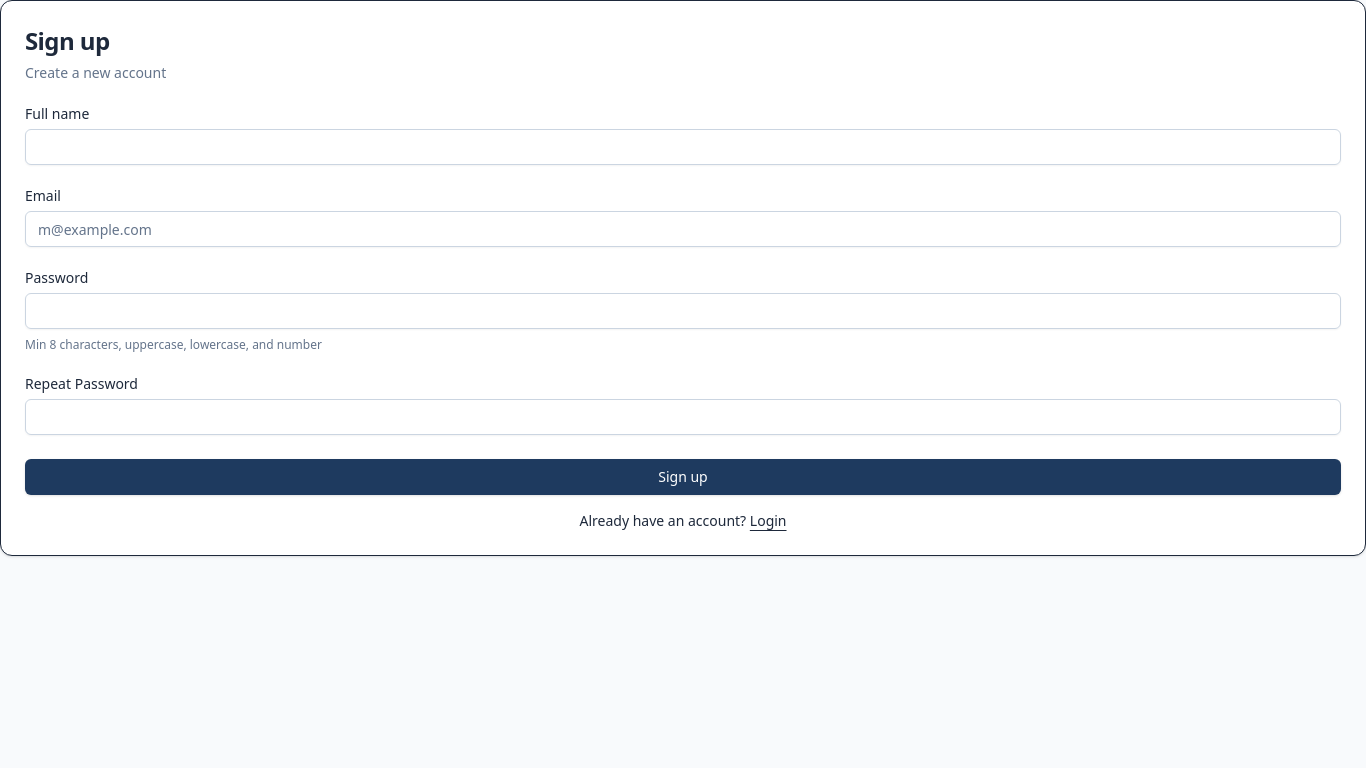
it: SignUpForm component › password validation › should show error when passwords do not match
Step 1. Type "John Doe" into the field labelled "Full name" → (683, 147), box left=25, top=129, right=1341, bottom=165
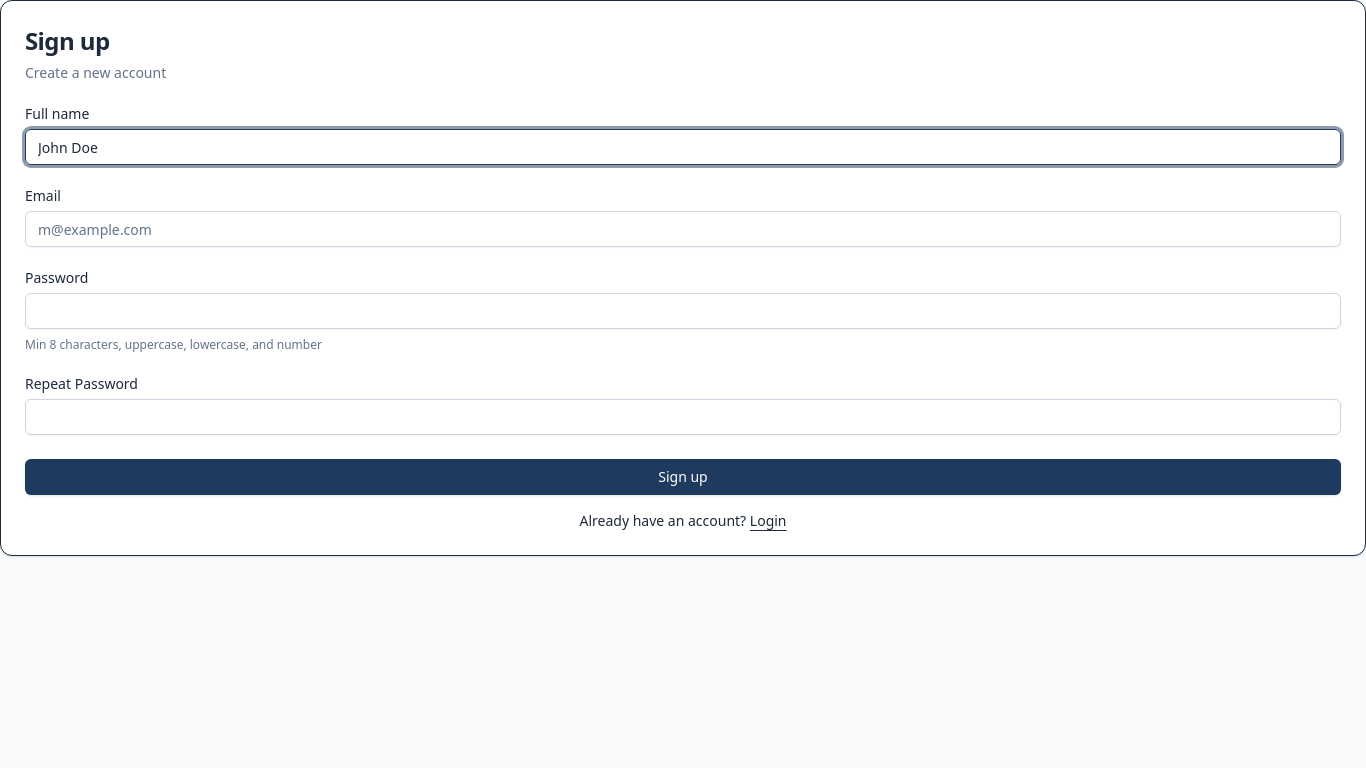
Step 2. Type "test@example.com" into the field labelled "Email" → (683, 229), box left=25, top=211, right=1341, bottom=247
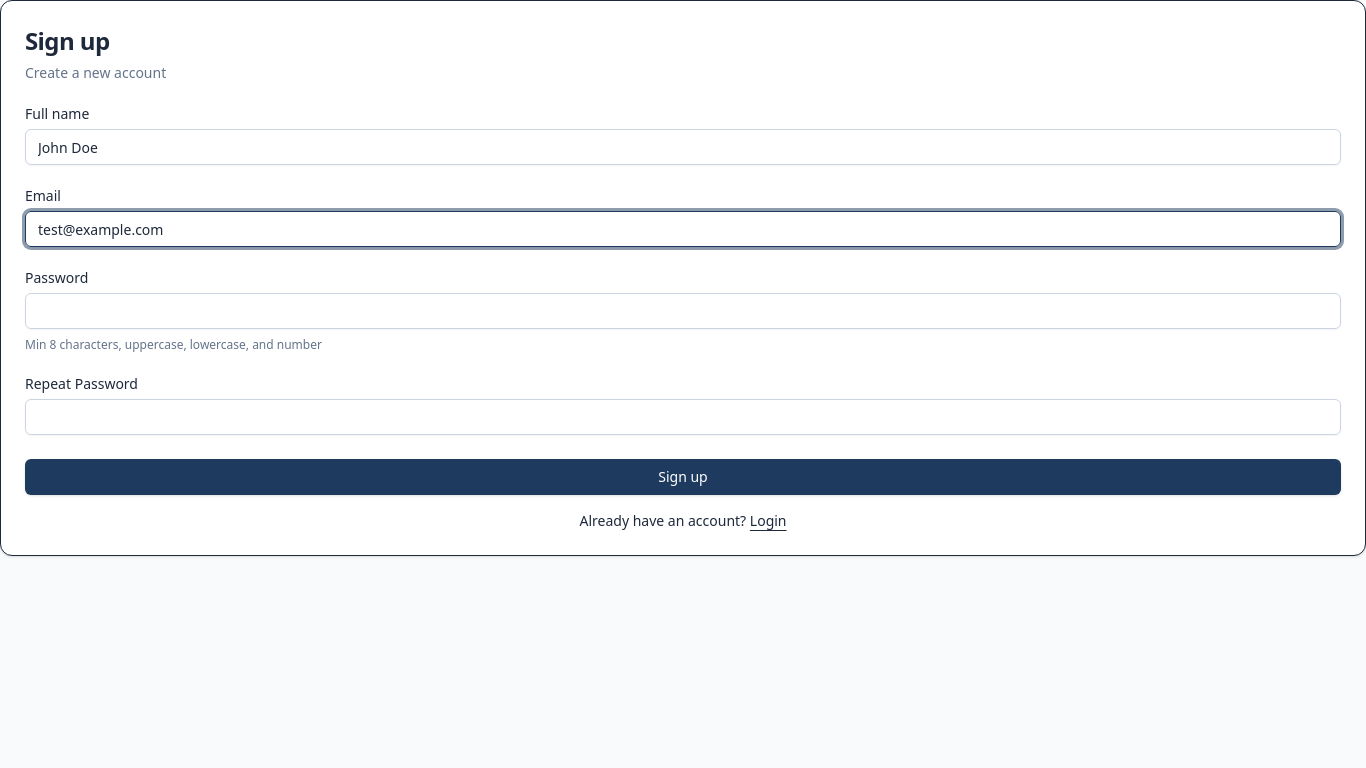
Step 3. Type "Password123" into the password field labelled "Password" → (683, 311), box left=25, top=293, right=1341, bottom=329
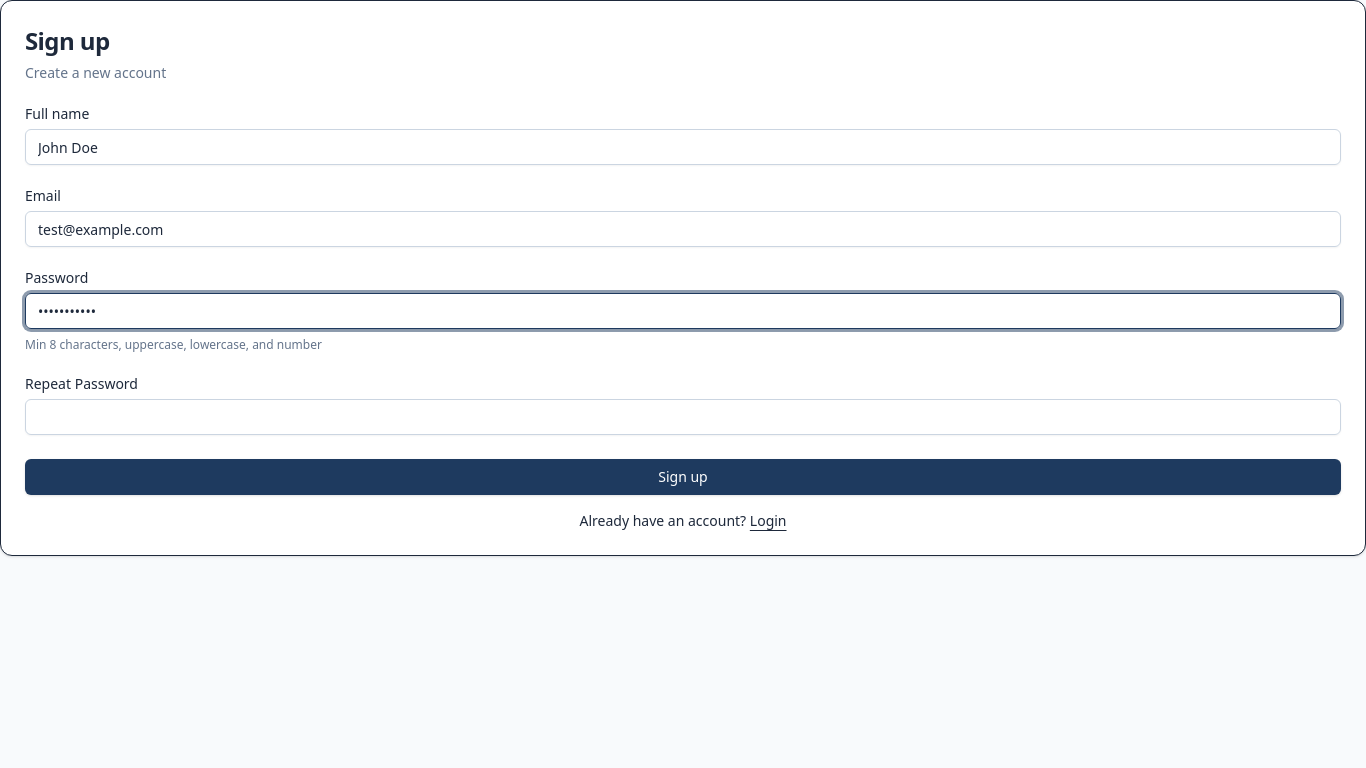
Step 4. Type "Password456" into the password field labelled "Repeat Password" → (683, 417), box left=25, top=399, right=1341, bottom=435
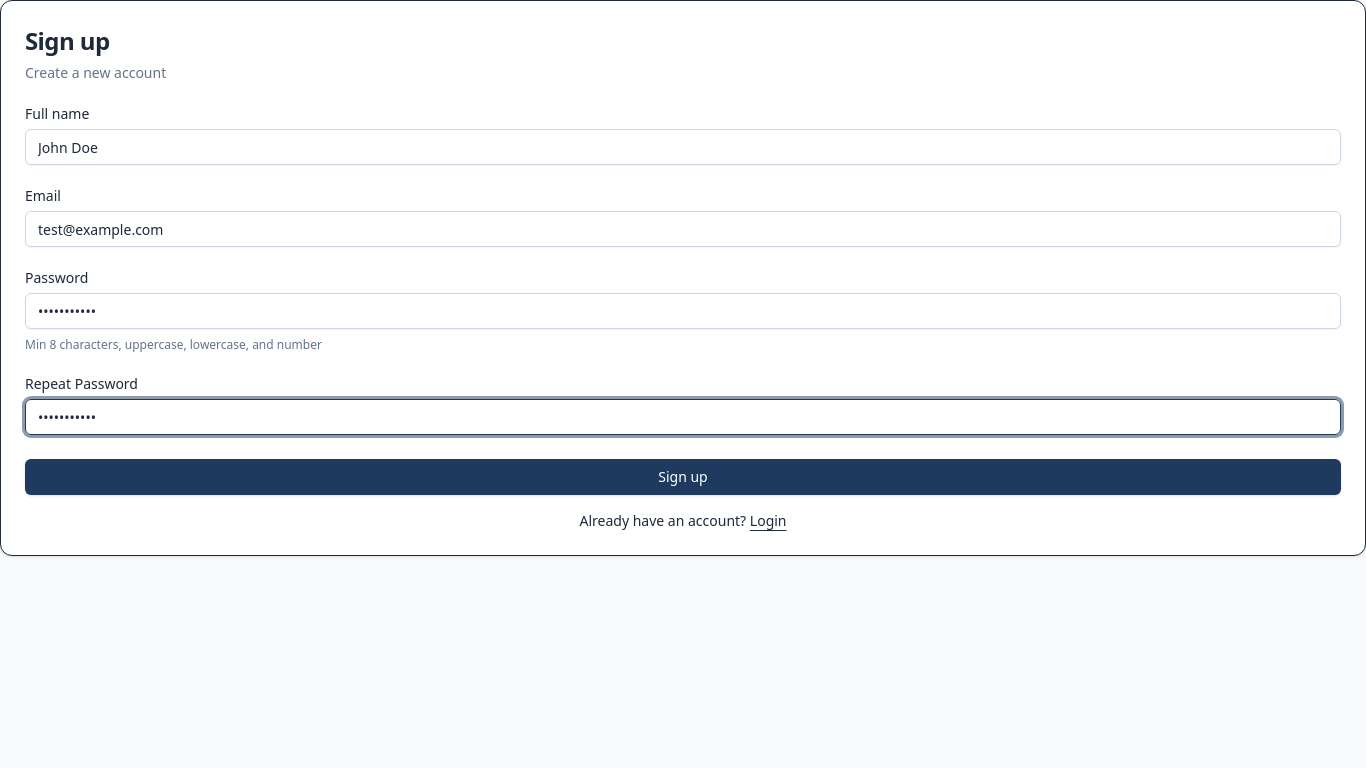
Step 5. Click the button "Sign up" → (683, 477), box left=25, top=459, right=1341, bottom=495
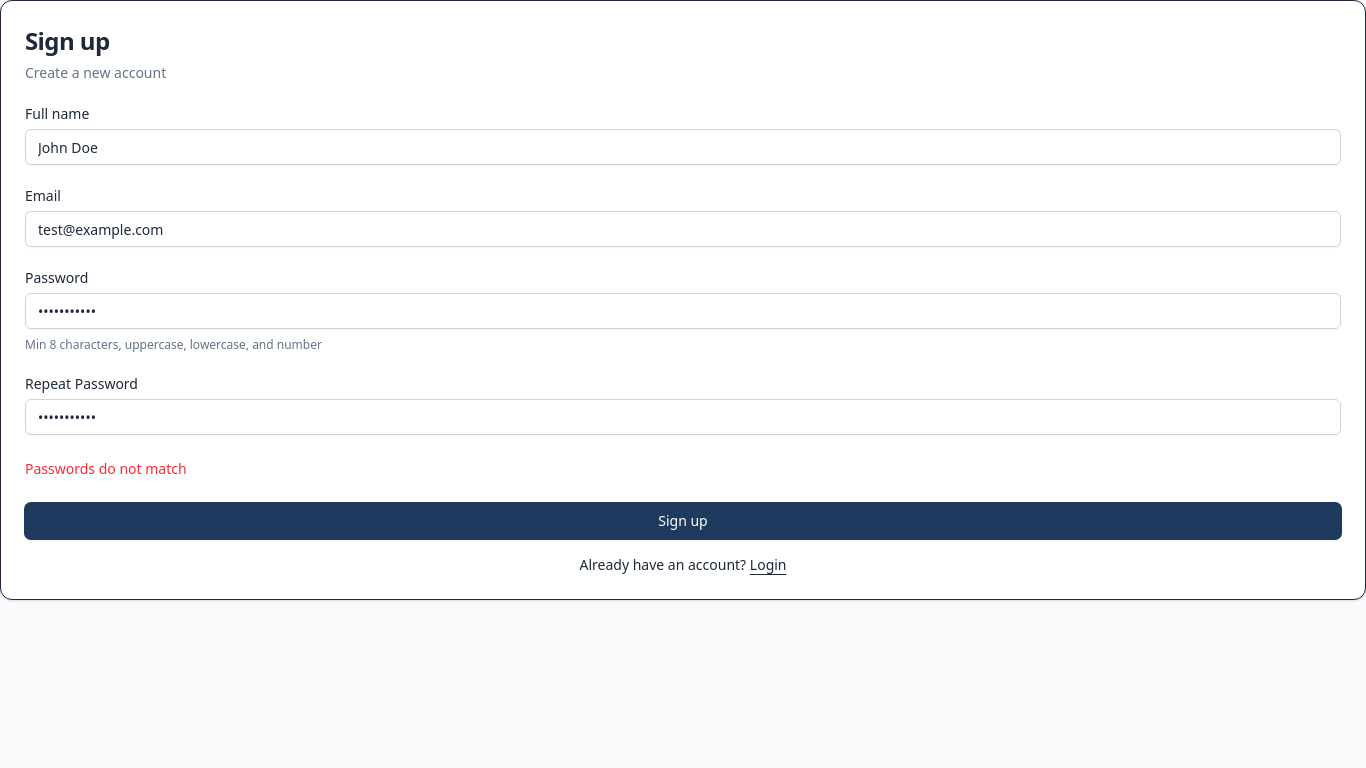
Expected: the text "Passwords do not match" is shown, left=25, top=459, right=187, bottom=478
